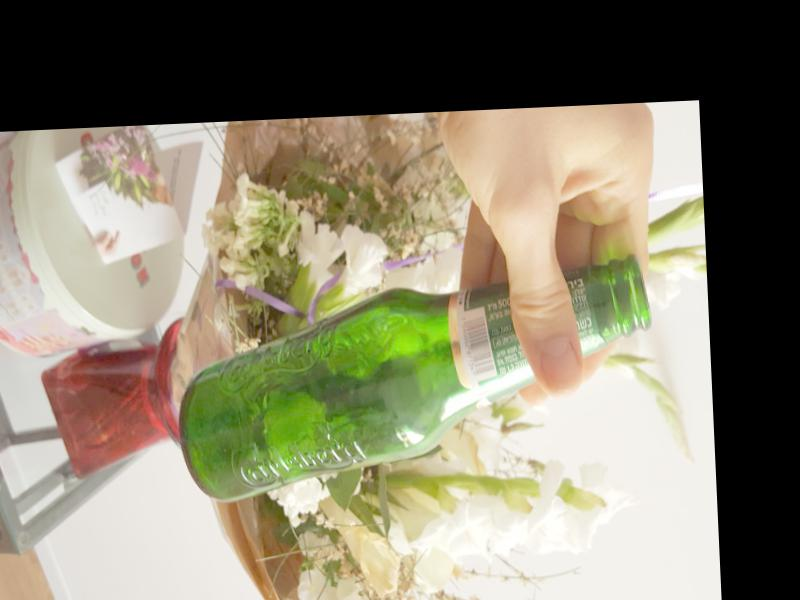Beer: (173, 276, 658, 503)
